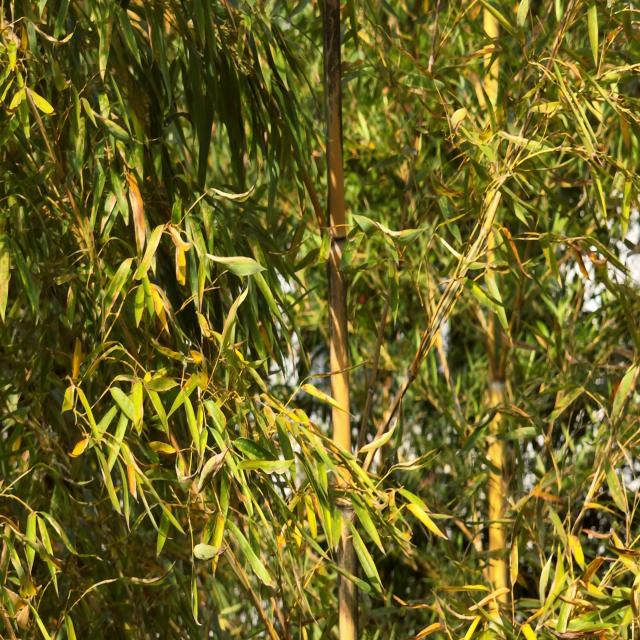Bamboo-shoots: (321, 0, 357, 640)
